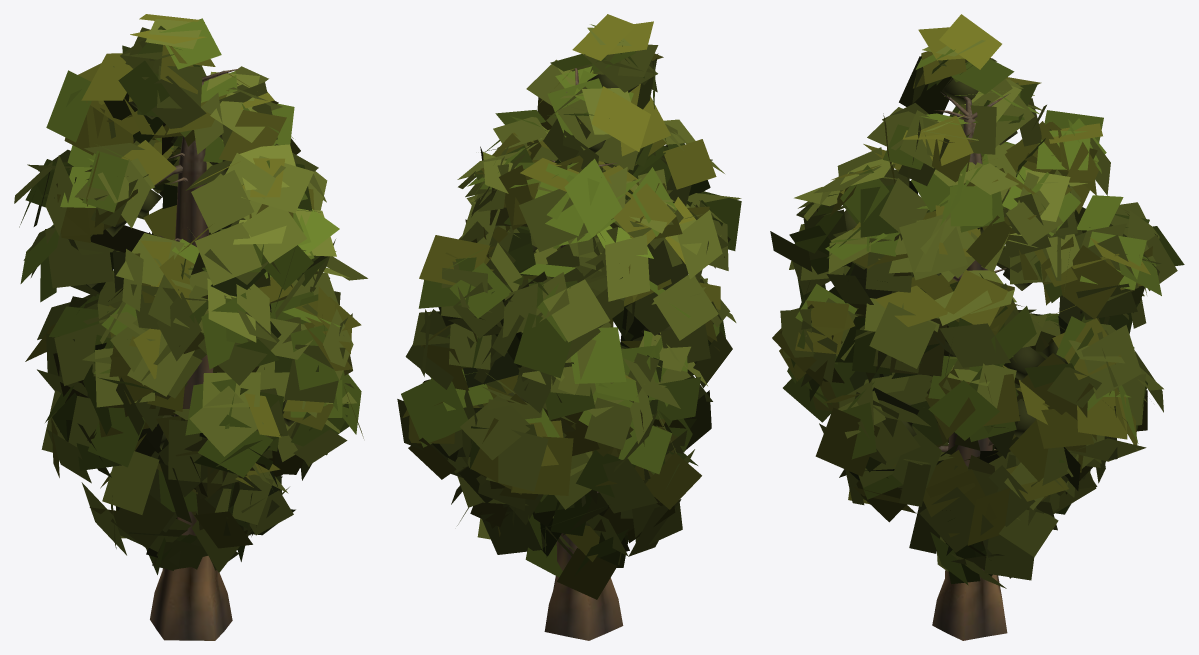
Rendered from tree-02.glb.
3 renders of one model, left to right at view 1: azimuth 30°, elevation 25°; view 2: azimuth 150°, elevation 25°; view 3: azimuth 270°, elevation 25°, orthographic. The views are drawn at different scales.
Visible parts, largest first — view 1: tree-02; view 2: tree-02; view 3: tree-02.
Part boxes in pixels (x1=…): tree-02: x1=14, y1=14, x2=367, y2=640; tree-02: x1=397, y1=14, x2=741, y2=640; tree-02: x1=770, y1=14, x2=1184, y2=640.
Size of the model in its own units: 3.06 by 7.08 by 4.53.
Materials: 3 (1 with a texture image).
